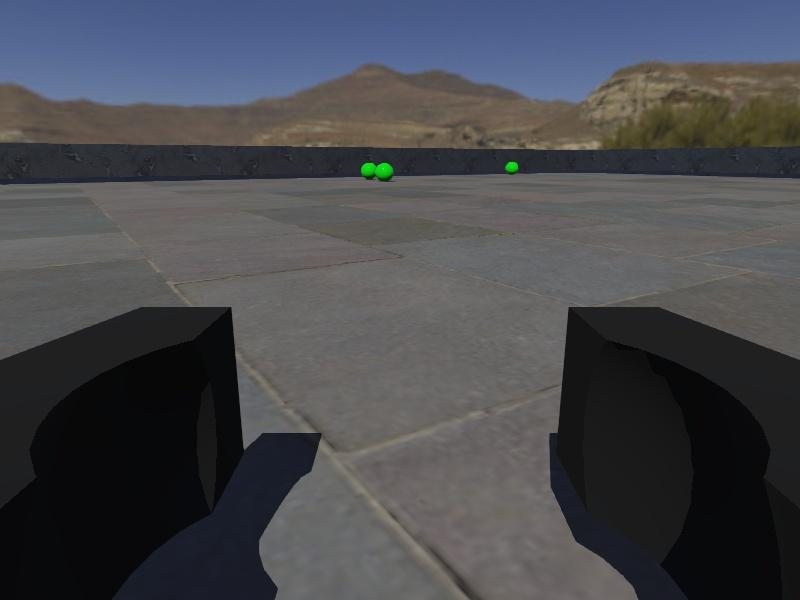green ball: (375, 162, 393, 182), (504, 159, 520, 175)
